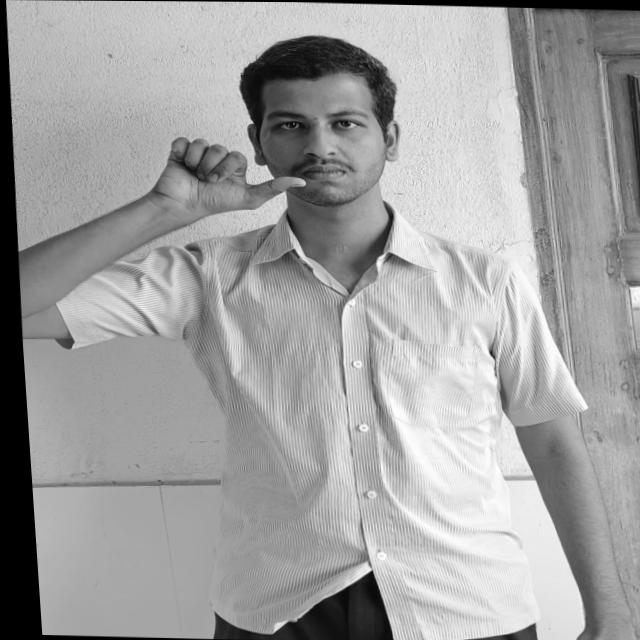Drink: (151, 132, 310, 220)
